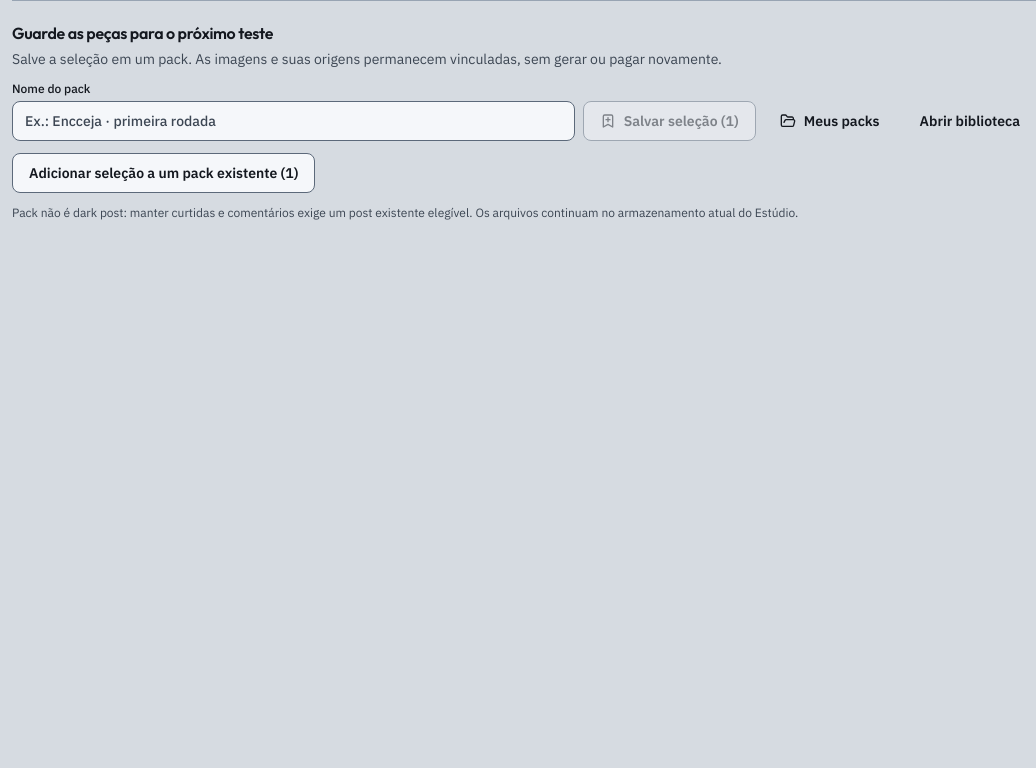
Test: seleção exige nome e salva somente refs; preparar campanha não lança
expect the button "Salvar seleção (1)" is disabled: met, box [583, 101, 756, 141]
Type "Primeiro teste" into the field labelled "Nome do pack" at (293, 121), box [12, 101, 575, 141]
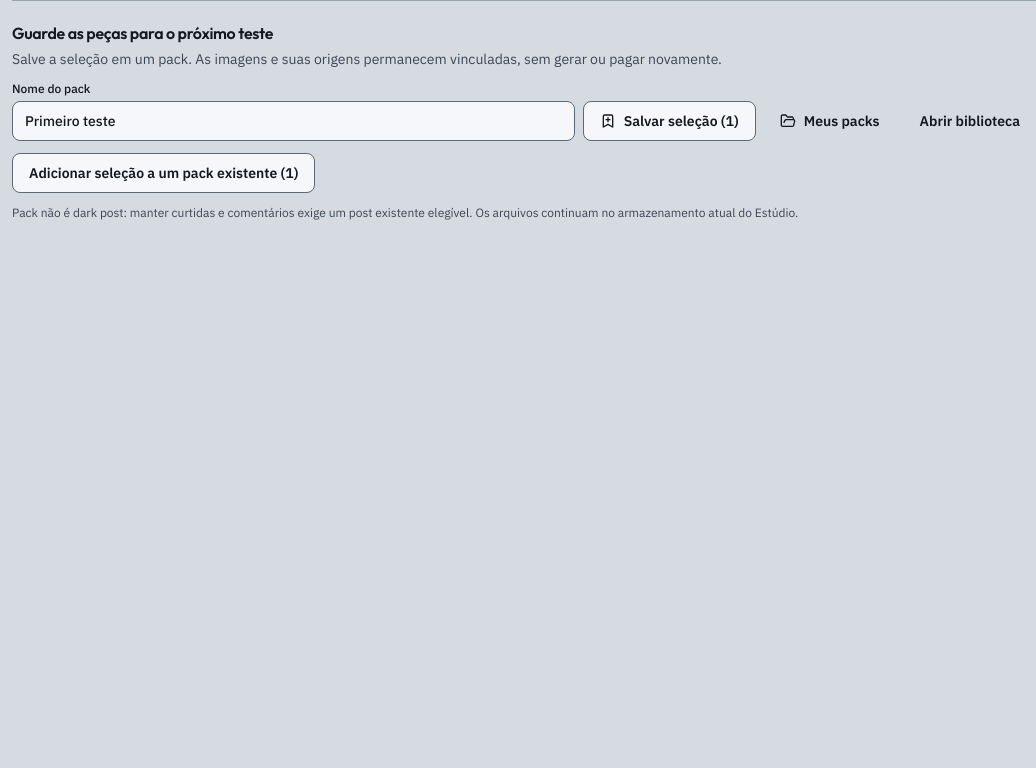
Click the button "Salvar seleção (1)" at (669, 121), box [583, 101, 756, 141]
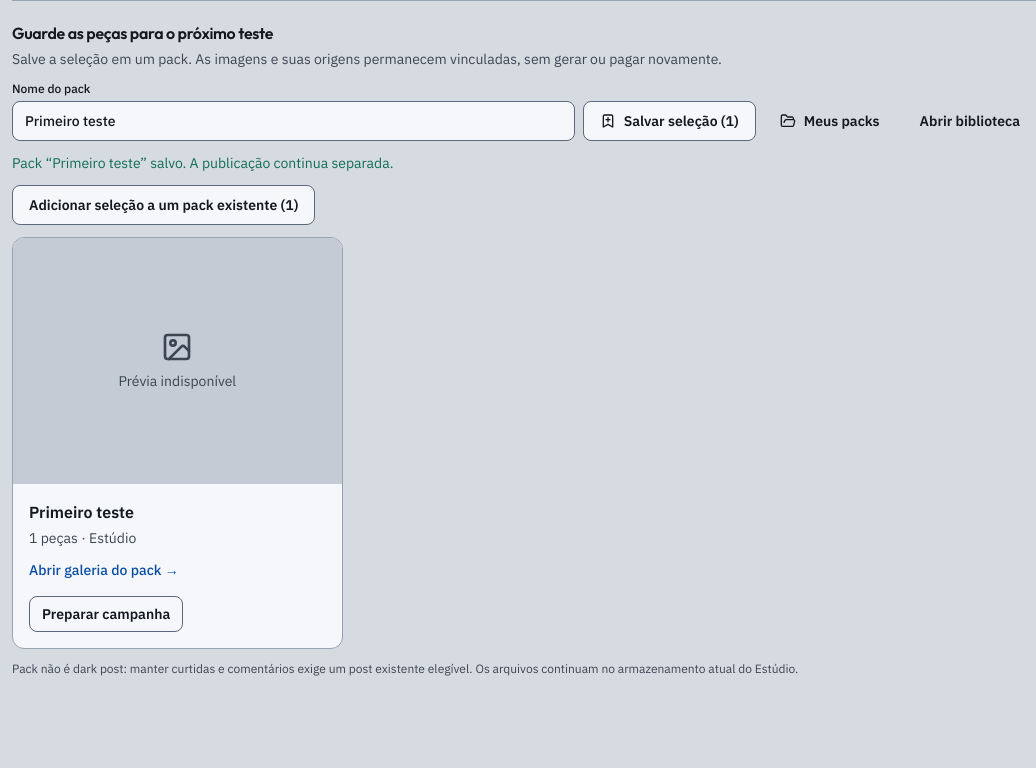
expect the text "Pack “Primeiro teste” salvo. A publicação continua separada." is shown: met, box [12, 154, 394, 172]
